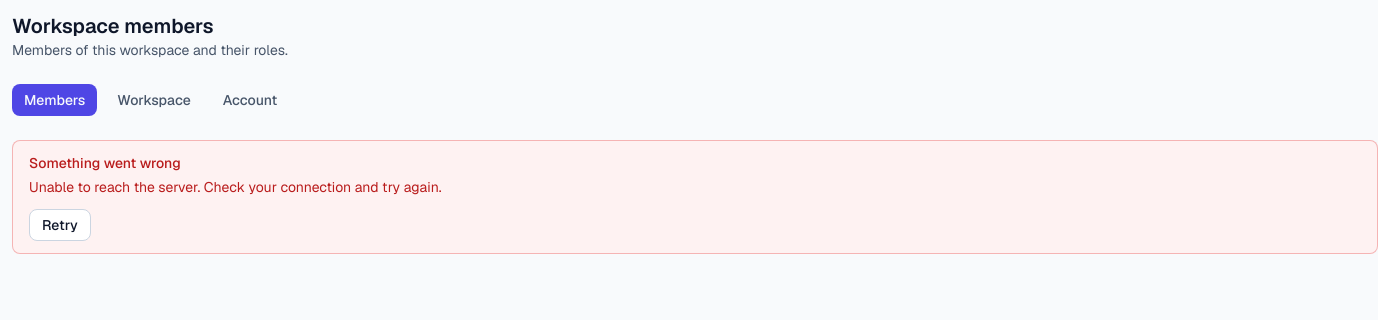
Test: MembersListPage › shows a network-error state (not empty) and recovers via Retry
Check: the text "Something went wrong" is shown, box [29, 154, 181, 172]
Click the button "Retry" at (60, 225), box [29, 209, 91, 241]
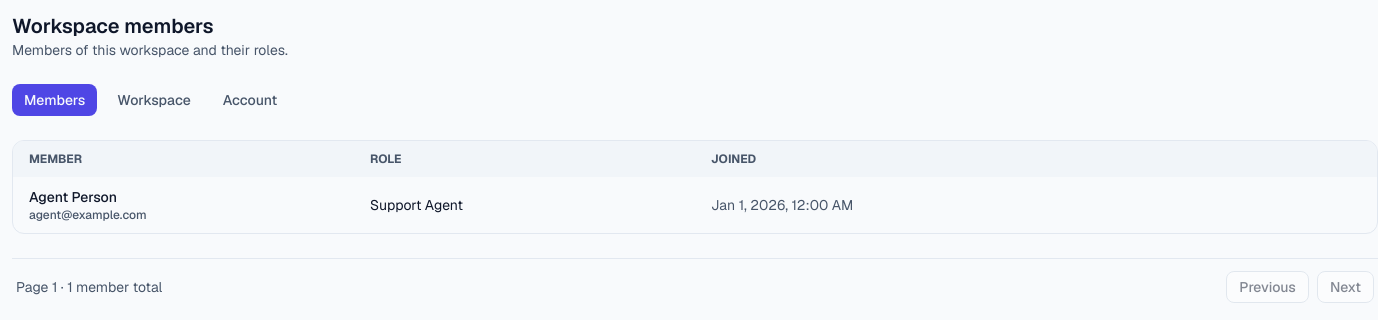
Check: the text "Agent Person" is shown, box [29, 188, 117, 206]
